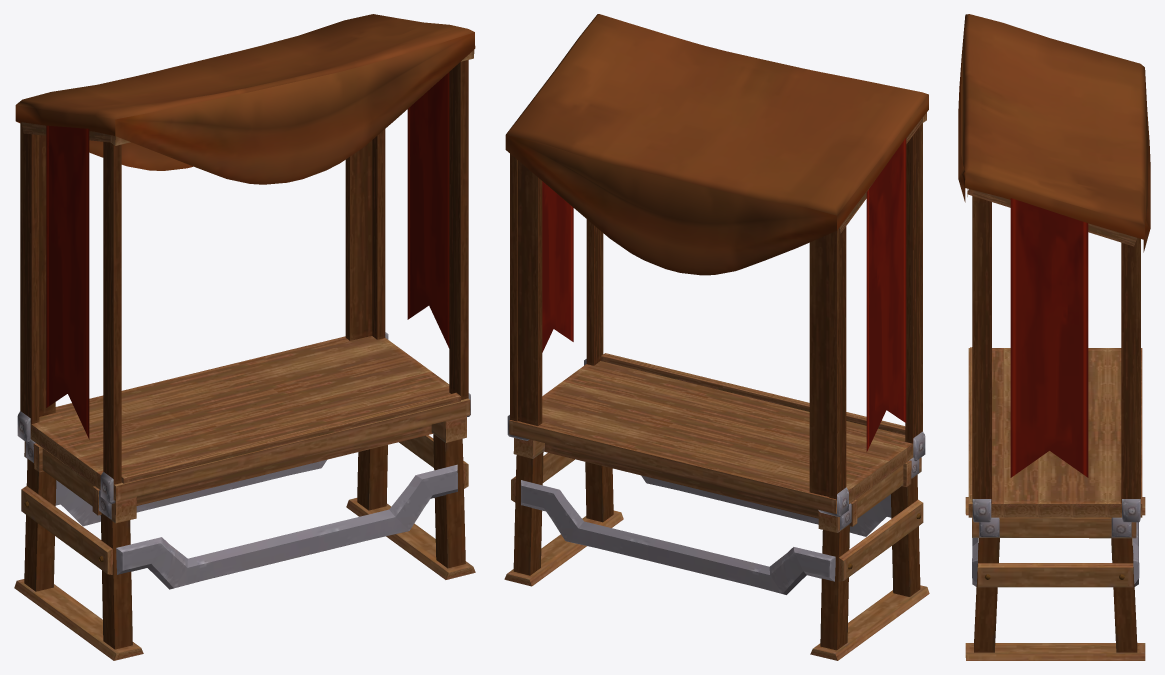
The model's file is Stall_Empty.glb.
The picture shows the model from 3 angles, left to right: view 1: azimuth 30°, elevation 25°; view 2: azimuth 150°, elevation 25°; view 3: azimuth 270°, elevation 25°; orthographic projection. The views are drawn at different scales.
Parts seen in each view (by area): view 1: Stall_Empty; view 2: Stall_Empty; view 3: Stall_Empty.
Boxes of the visible parts, box(x1,y1,x2,y2) form: Stall_Empty: box(14, 14, 475, 660); Stall_Empty: box(504, 14, 929, 660); Stall_Empty: box(958, 14, 1150, 660).
Size of the model in its own units: 1.84 by 2.63 by 0.9324.
3 materials, 3 textured.
